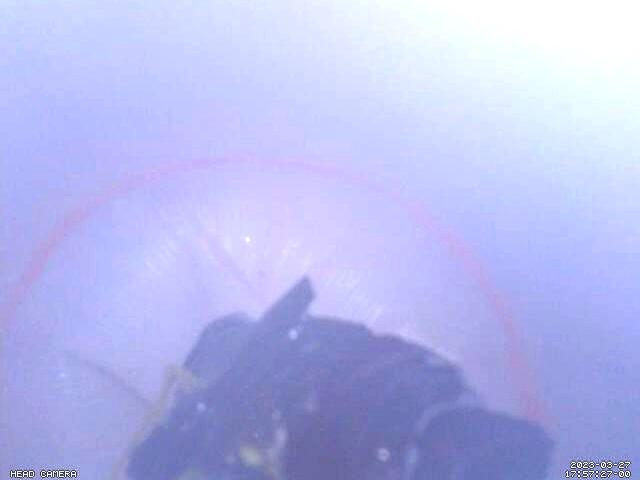head: (0, 149, 552, 437)
